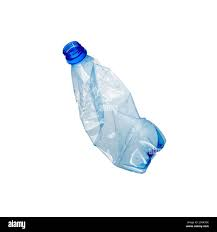plastic_bottle: (62, 42, 165, 174)
